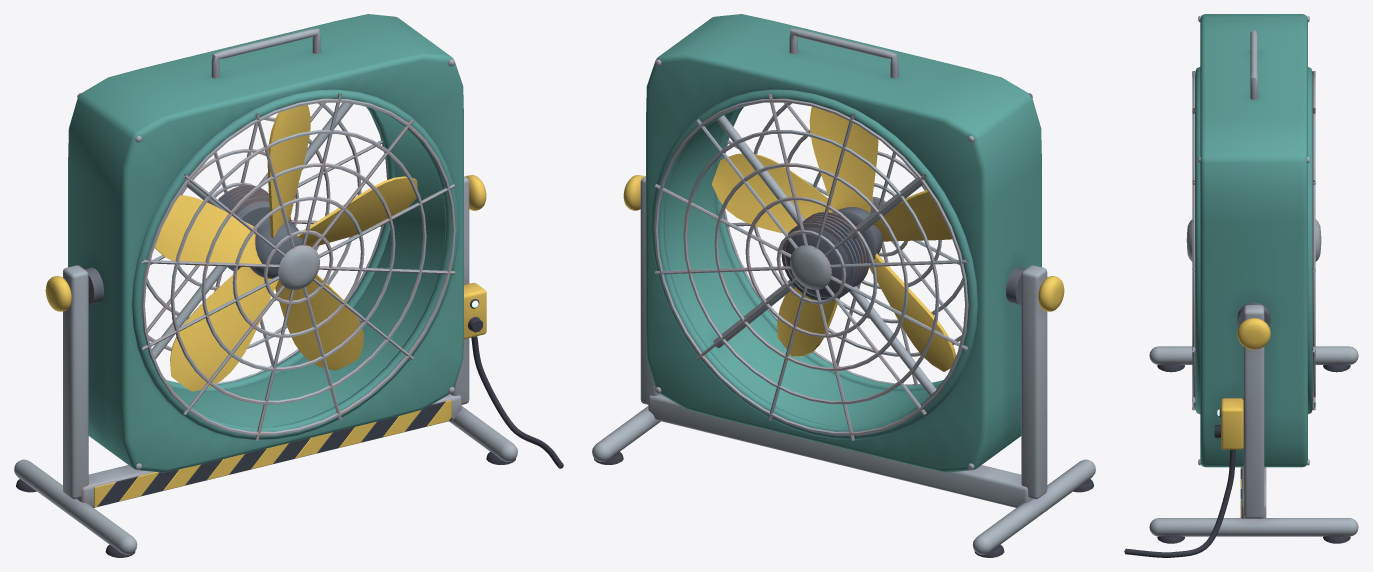
File: industrial-fan.glb
3 renders of one model, left to right at view 1: azimuth 30°, elevation 25°; view 2: azimuth 150°, elevation 25°; view 3: azimuth 270°, elevation 25°, orthographic. The views are drawn at different scales.
Parts seen in each view (by area): view 1: industrial-fan_body, industrial-fan_rotor; view 2: industrial-fan_body, industrial-fan_rotor; view 3: industrial-fan_body.
Boxes of the visible parts, bbox=[...] form: industrial-fan_body: bbox=[14, 14, 563, 557]; industrial-fan_rotor: bbox=[154, 105, 417, 391]; industrial-fan_body: bbox=[592, 14, 1095, 557]; industrial-fan_rotor: bbox=[712, 106, 955, 371]; industrial-fan_body: bbox=[1124, 14, 1358, 557].
Size of the model in its own units: 2.32 by 2.13 by 1.13.
3 materials, 2 textured.
